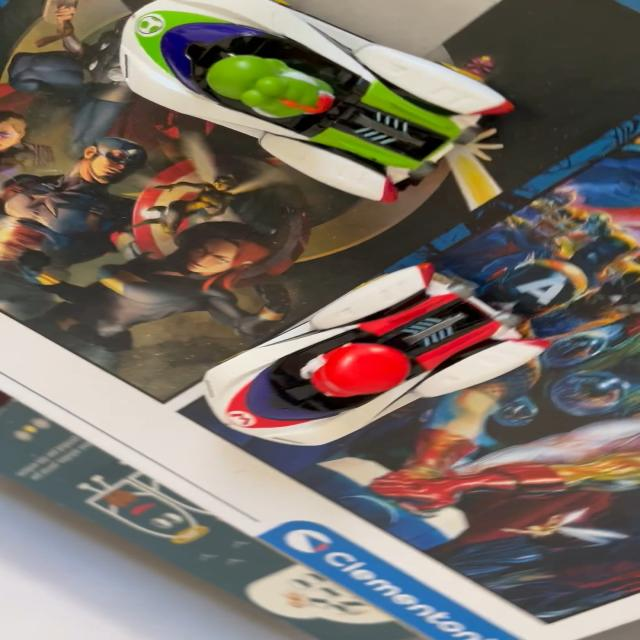mario: (181, 250, 571, 455)
yoshi: (83, 0, 543, 227)
